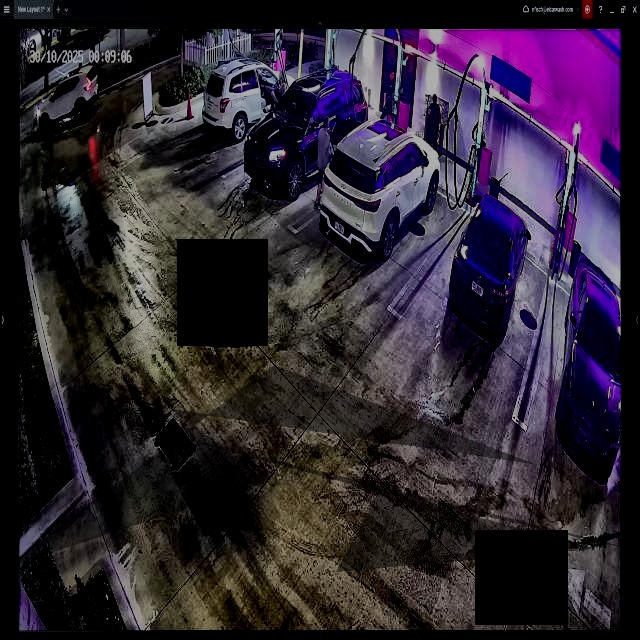Car: (321, 118, 443, 264), (243, 71, 368, 190), (449, 196, 534, 343)
